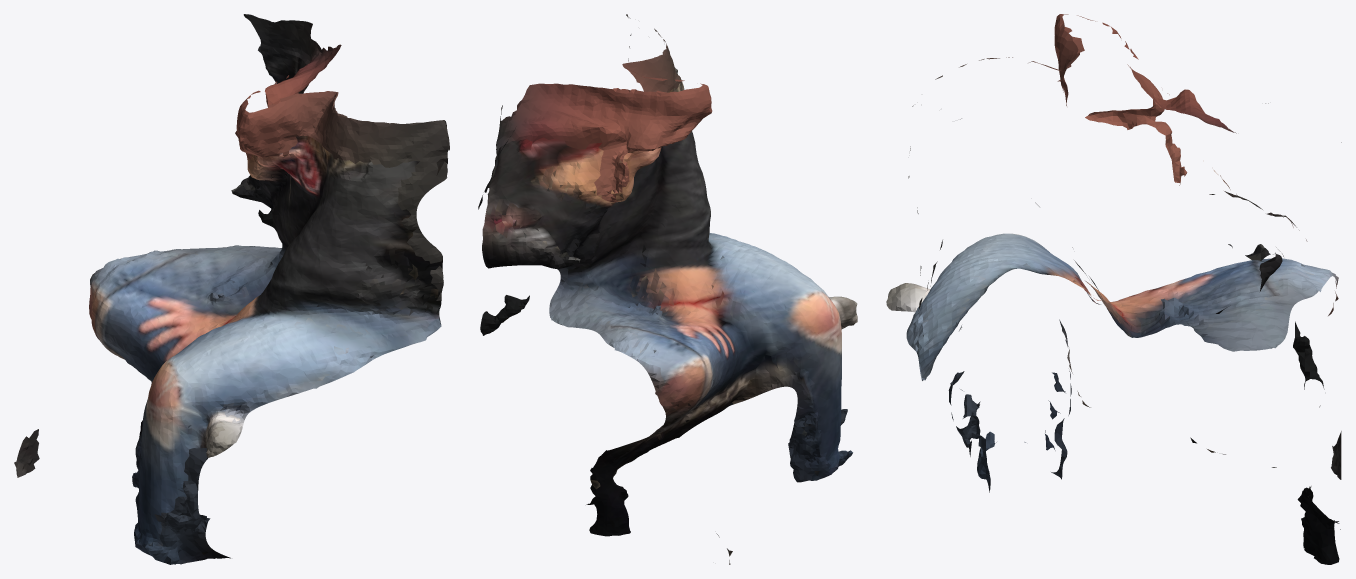
3 renders of one model, left to right at view 1: azimuth 30°, elevation 25°; view 2: azimuth 150°, elevation 25°; view 3: azimuth 270°, elevation 25°, orthographic. The views are drawn at different scales.
Bounding box in the file's own units: 0.4952 × 0.7072 × 0.5428.
Materials: 1 (1 with a texture image).
